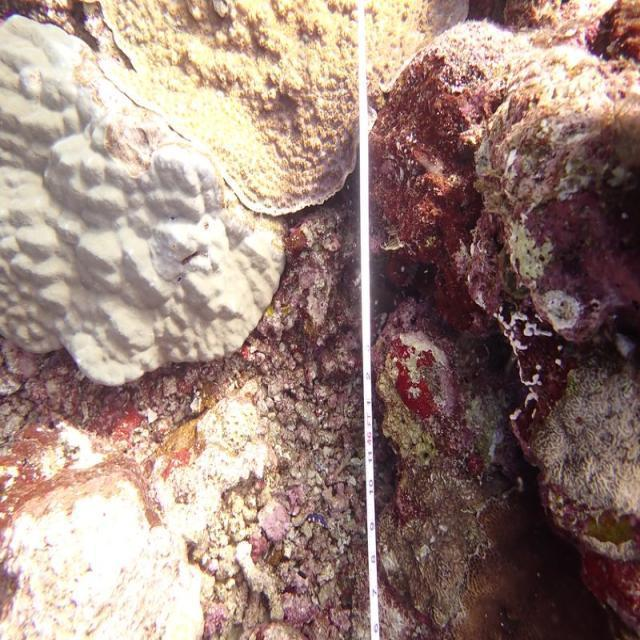Bleached Coral: (1, 440, 252, 640)
Healthy Coral: (0, 0, 285, 403)
